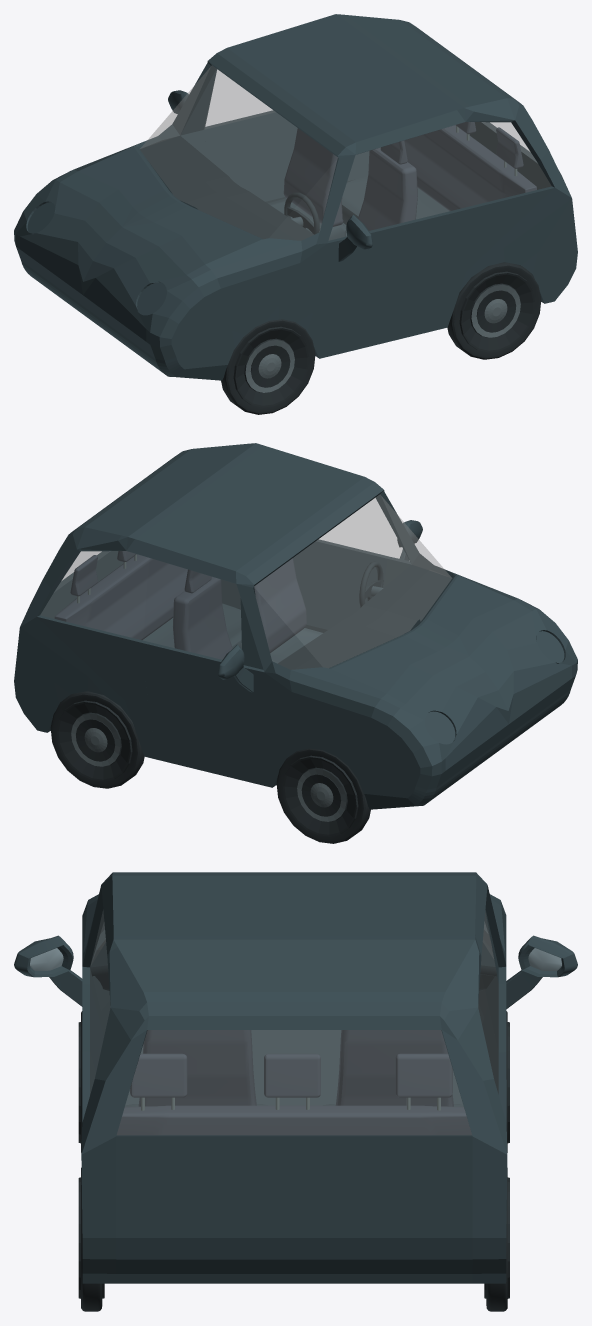
Rendered from FIXEDCar.fbx.
3 views of the same model, one above another, from view 1: azimuth 30°, elevation 25°; view 2: azimuth 150°, elevation 25°; view 3: azimuth 270°, elevation 25° (orthographic). The views are drawn at different scales.
Parts seen in each view (by area): view 1: car, car_seat_back (×3), car_door, wheel2, wheel1, car_seat_seat (×2), car_seat_head3, side_window; view 2: car, car_door, car_seat_back (×3), wheel3, wheel4, car_seat_seat (×2), car_seat_head1, side_window; view 3: car, car_seat_back (×3), side_window (×2), car_seat_head1, car_seat_head2, car_seat_head3, car_door, wheel2, wheel3, side_window_stand2, side_window_stand1, wheel1.
Part boxes in pixels (box(x1,y1,x2,y2)): car: box(14, 14, 577, 380); car_seat_back (×3): box(283, 125, 536, 230); car_door: box(203, 70, 297, 203); wheel2: box(447, 262, 541, 359); wheel1: box(221, 319, 315, 414); car_seat_seat (×2): box(268, 175, 449, 240); car_seat_head3: box(496, 127, 523, 168); side_window: box(346, 214, 372, 249); car: box(14, 443, 577, 809); car_door: box(142, 558, 241, 779); car_seat_back (×3): box(54, 554, 306, 659); wheel3: box(50, 691, 144, 788); wheel4: box(276, 748, 370, 843); car_seat_seat (×2): box(142, 603, 322, 663); car_seat_head1: box(70, 555, 97, 596); side_window: box(218, 644, 244, 679); car: box(81, 872, 507, 1283); car_seat_back (×3): box(116, 1030, 471, 1135); side_window (×2): box(14, 935, 577, 977); car_seat_head1: box(395, 1053, 452, 1097); car_seat_head2: box(264, 1053, 320, 1097); car_seat_head3: box(130, 1053, 187, 1097); car_door: box(481, 913, 506, 1071); wheel2: box(78, 1167, 104, 1311); wheel3: box(484, 1168, 509, 1311); side_window_stand2: box(506, 970, 542, 1009); side_window_stand1: box(49, 970, 82, 1006); wheel1: box(78, 1011, 82, 1152).
Size of the model in its own units: 0.507 by 0.2862 by 0.4174.
